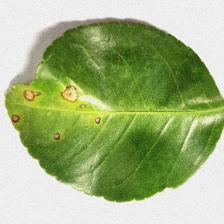canker: (8, 68, 111, 150)
